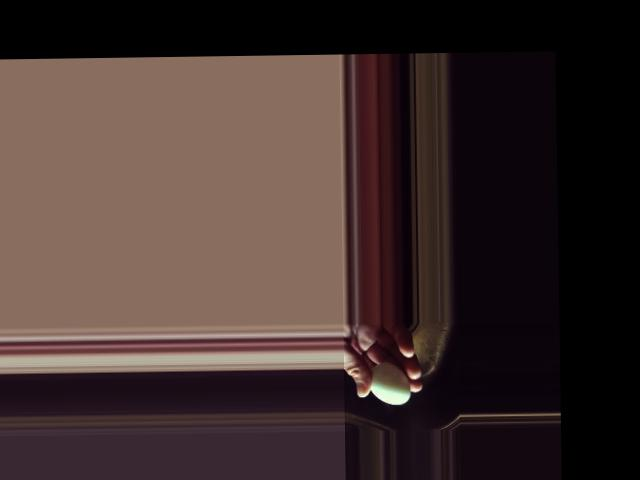egg: (369, 362, 409, 404)
